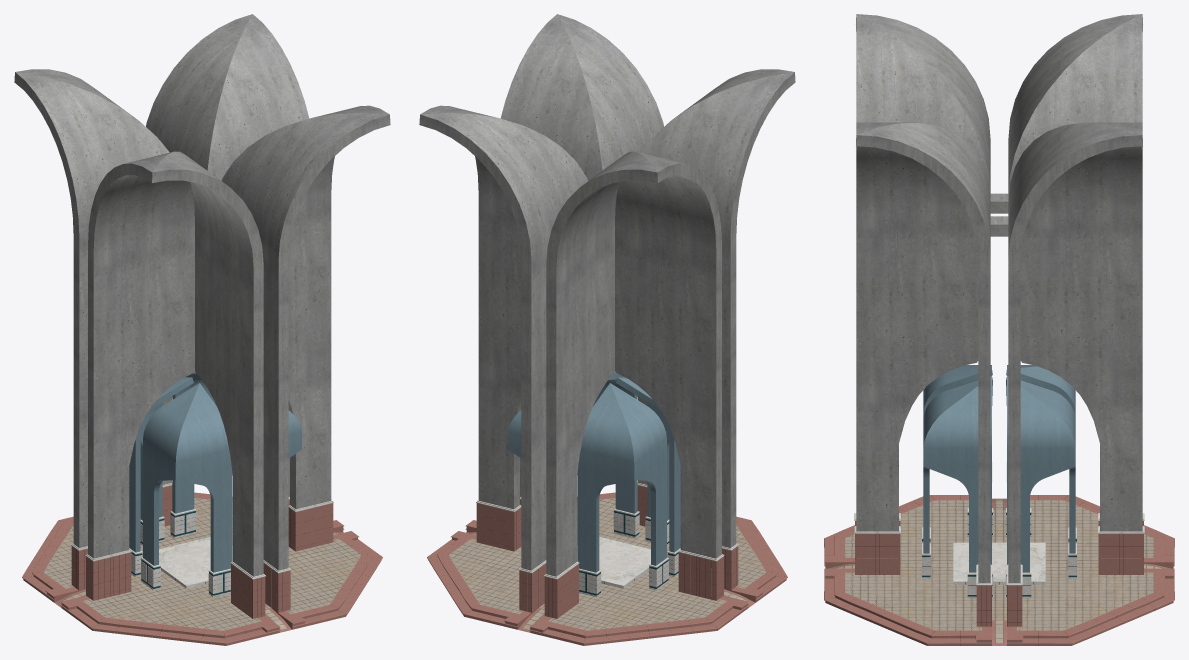
The model's file is Mazar.gltf.
3 renders of one model, left to right at view 1: azimuth 30°, elevation 25°; view 2: azimuth 150°, elevation 25°; view 3: azimuth 270°, elevation 25°, orthographic. The views are drawn at different scales.
Parts seen in each view (by area): view 1: big building, floor 1, small building .001, big plaster bot.001, big plaster bot.002, Plane.002, floor 2, smal plaster bot.001, smal plaster bot.002; view 2: big building, floor 1, small building .001, big plaster bot.001, big plaster bot.002, Plane.002, floor 2, smal plaster bot.001, smal plaster bot.002; view 3: big building, floor 1, small building .001, big plaster bot.002, floor 2, Plane.002, big plaster bot.001, smal plaster bot.002, smal plaster bot.001.
Part boxes in pixels (bbox=[...]): big building: bbox=[14, 14, 390, 576]; floor 1: bbox=[23, 493, 381, 645]; small building .001: bbox=[129, 371, 301, 572]; big plaster bot.001: bbox=[71, 497, 333, 600]; big plaster bot.002: bbox=[162, 482, 291, 618]; Plane.002: bbox=[142, 537, 232, 586]; floor 2: bbox=[22, 492, 382, 643]; smal plaster bot.001: bbox=[140, 508, 230, 597]; smal plaster bot.002: bbox=[129, 548, 160, 590]; big building: bbox=[419, 14, 795, 576]; floor 1: bbox=[428, 493, 786, 645]; small building .001: bbox=[508, 371, 680, 572]; big plaster bot.001: bbox=[476, 497, 738, 600]; big plaster bot.002: bbox=[518, 482, 647, 618]; Plane.002: bbox=[577, 537, 667, 586]; floor 2: bbox=[427, 492, 787, 643]; smal plaster bot.001: bbox=[579, 508, 669, 597]; smal plaster bot.002: bbox=[649, 548, 680, 590]; big building: bbox=[856, 14, 1142, 582]; floor 1: bbox=[825, 495, 1173, 645]; small building .001: bbox=[923, 365, 1075, 572]; big plaster bot.002: bbox=[854, 513, 1144, 574]; floor 2: bbox=[824, 495, 1174, 643]; Plane.002: bbox=[953, 542, 1045, 582]; big plaster bot.001: bbox=[976, 462, 1022, 626]; smal plaster bot.002: bbox=[967, 508, 1031, 598]; smal plaster bot.001: bbox=[922, 527, 1076, 578].
Bounding box in the file's own units: 23.09 × 36.1 × 23.06.
Materials: 8 (6 with a texture image).
